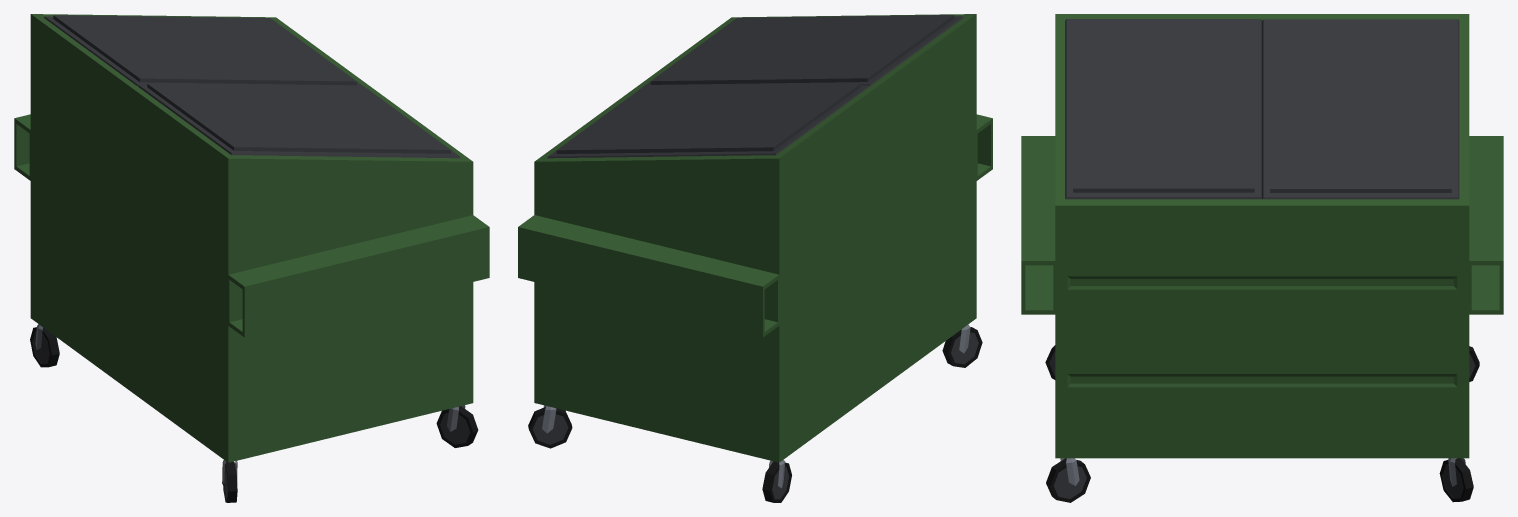
Rendered from Big_trash_bin.fbx.
The picture shows the model from 3 angles, left to right: view 1: azimuth 30°, elevation 25°; view 2: azimuth 150°, elevation 25°; view 3: azimuth 270°, elevation 25°; orthographic projection. The views are drawn at different scales.
Parts seen in each view (by area): view 1: Big trash bin, door 1, door 2; view 2: Big trash bin, door 2, door 1; view 3: Big trash bin, door 2, door 1.
Part boxes in pixels (x1,y1,x2,y2): Big trash bin: [14, 14, 489, 502]; door 1: [138, 83, 460, 158]; door 2: [44, 15, 363, 86]; Big trash bin: [518, 14, 992, 502]; door 2: [547, 84, 869, 158]; door 1: [642, 15, 963, 87]; Big trash bin: [1021, 14, 1503, 502]; door 2: [1262, 19, 1459, 199]; door 1: [1065, 19, 1262, 199].
Bounding box in the file's own units: 132 × 174 × 206.
